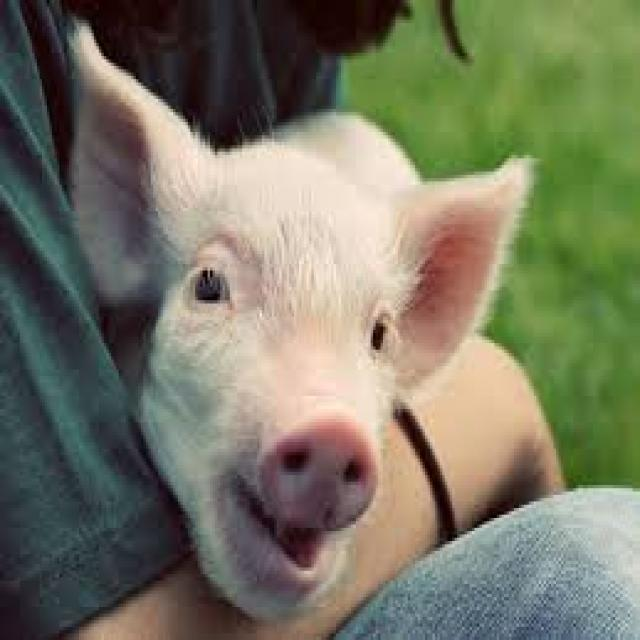Pig: (62, 10, 540, 625)
